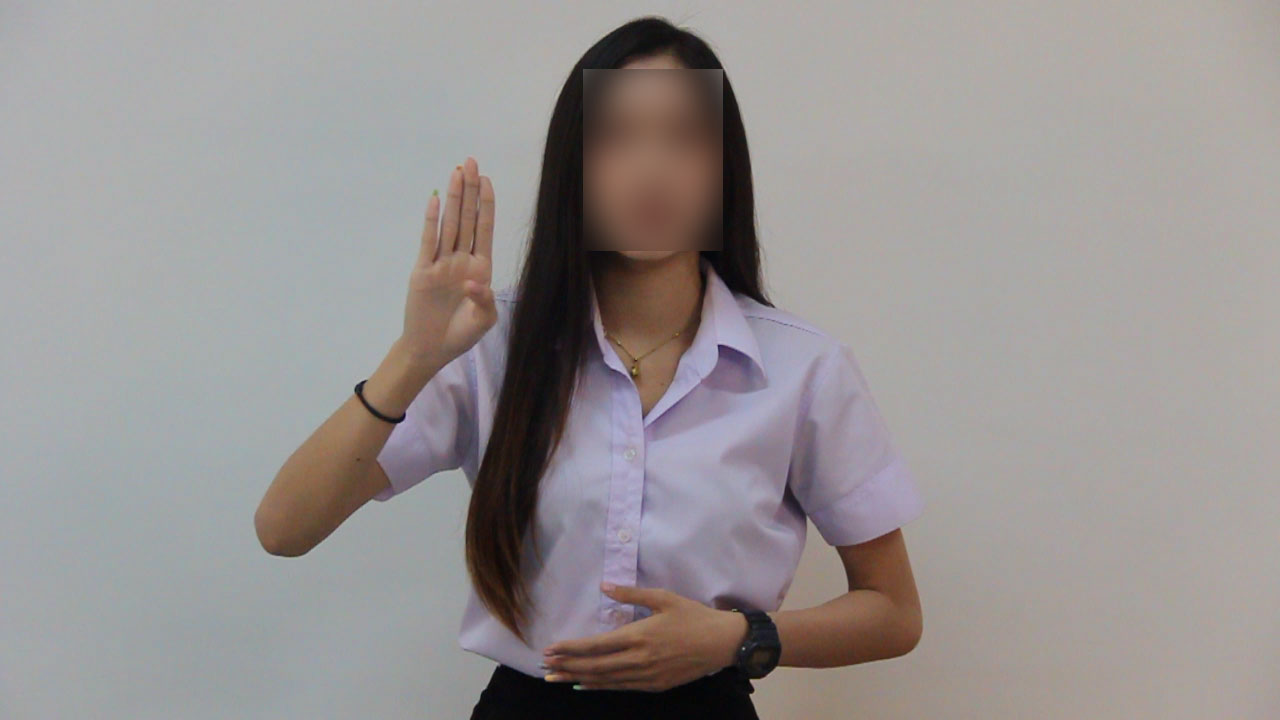bor: (391, 133, 509, 386)
